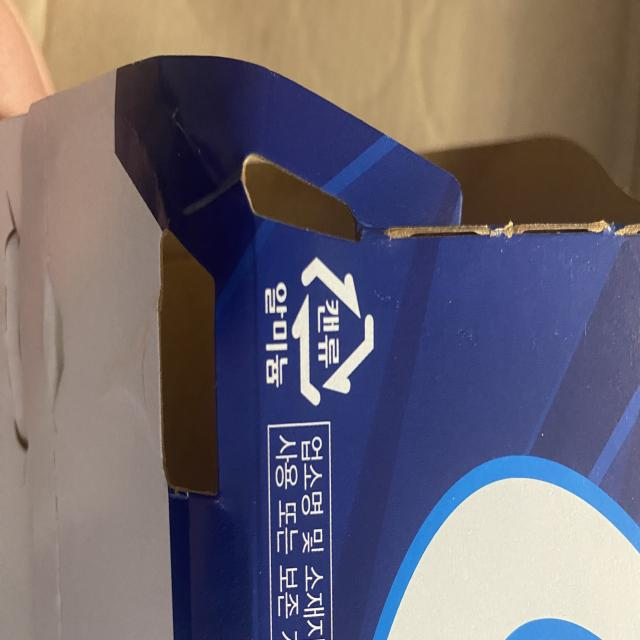Can: (288, 243, 377, 411)
